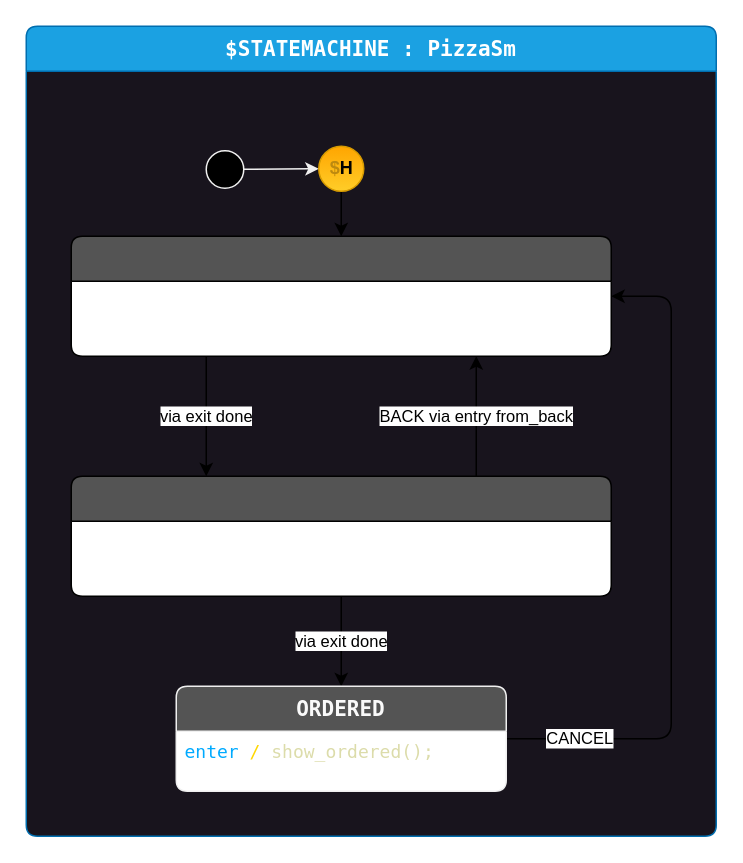
Image size: 743x863. Some labels were removed from this diagram. Here are the shapes that lost their labels. From the top down, the centre of each, then its label:
At point 340,295: "PIZZA_BUILD".
At point 340,535: "PURCHASING".
